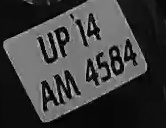1: (74, 19, 89, 47)
4: (122, 39, 140, 67), (86, 13, 103, 41), (83, 60, 99, 87)
5: (96, 51, 112, 82)
8: (109, 44, 125, 76)
A: (40, 81, 57, 113)
M: (54, 71, 81, 104)
P: (54, 27, 73, 60)
U: (36, 35, 58, 64)
